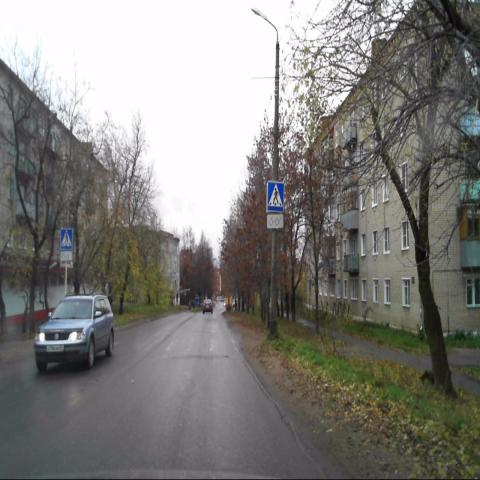5_19_1: (266, 181, 284, 212)
